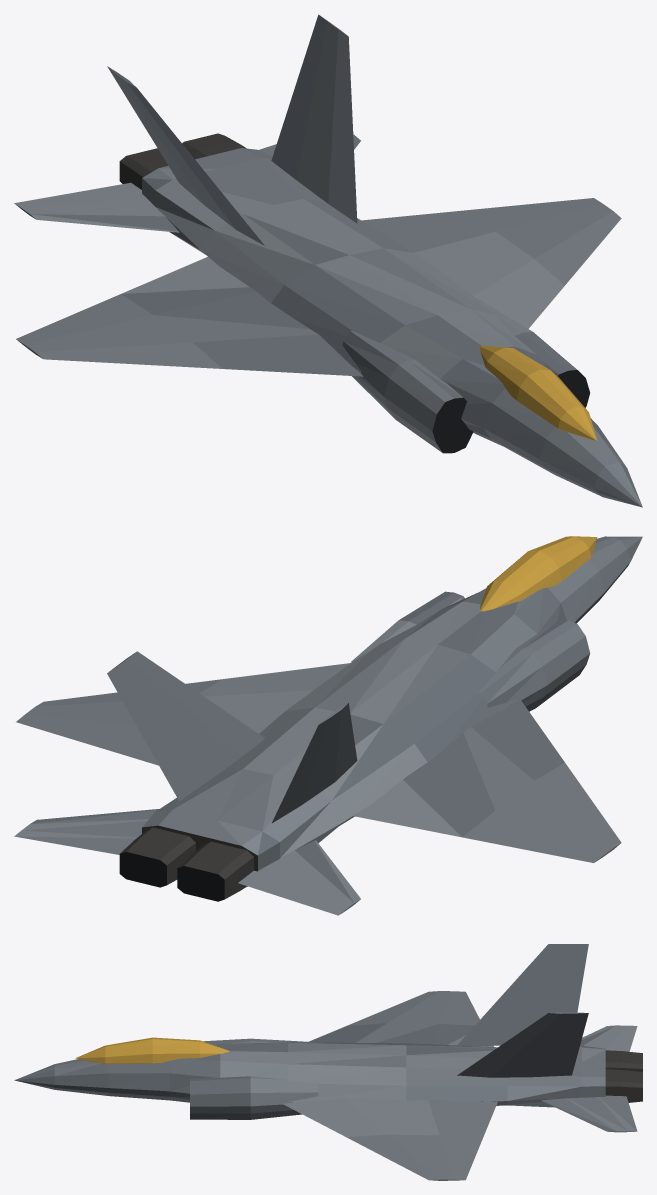
The picture shows the model from 3 angles, top to bottom: view 1: azimuth 30°, elevation 25°; view 2: azimuth 150°, elevation 25°; view 3: azimuth 270°, elevation 25°; orthographic projection. The views are drawn at different scales.
Parts seen in each view (by area): view 1: af40; view 2: af40; view 3: af40.
Boxes of the visible parts, x1,y1,x2,y2 form: af40: (14,14,642,507); af40: (14,536,642,915); af40: (14,944,642,1180).
Bounding box in the file's own units: 13.19 × 3.95 × 18.6.
